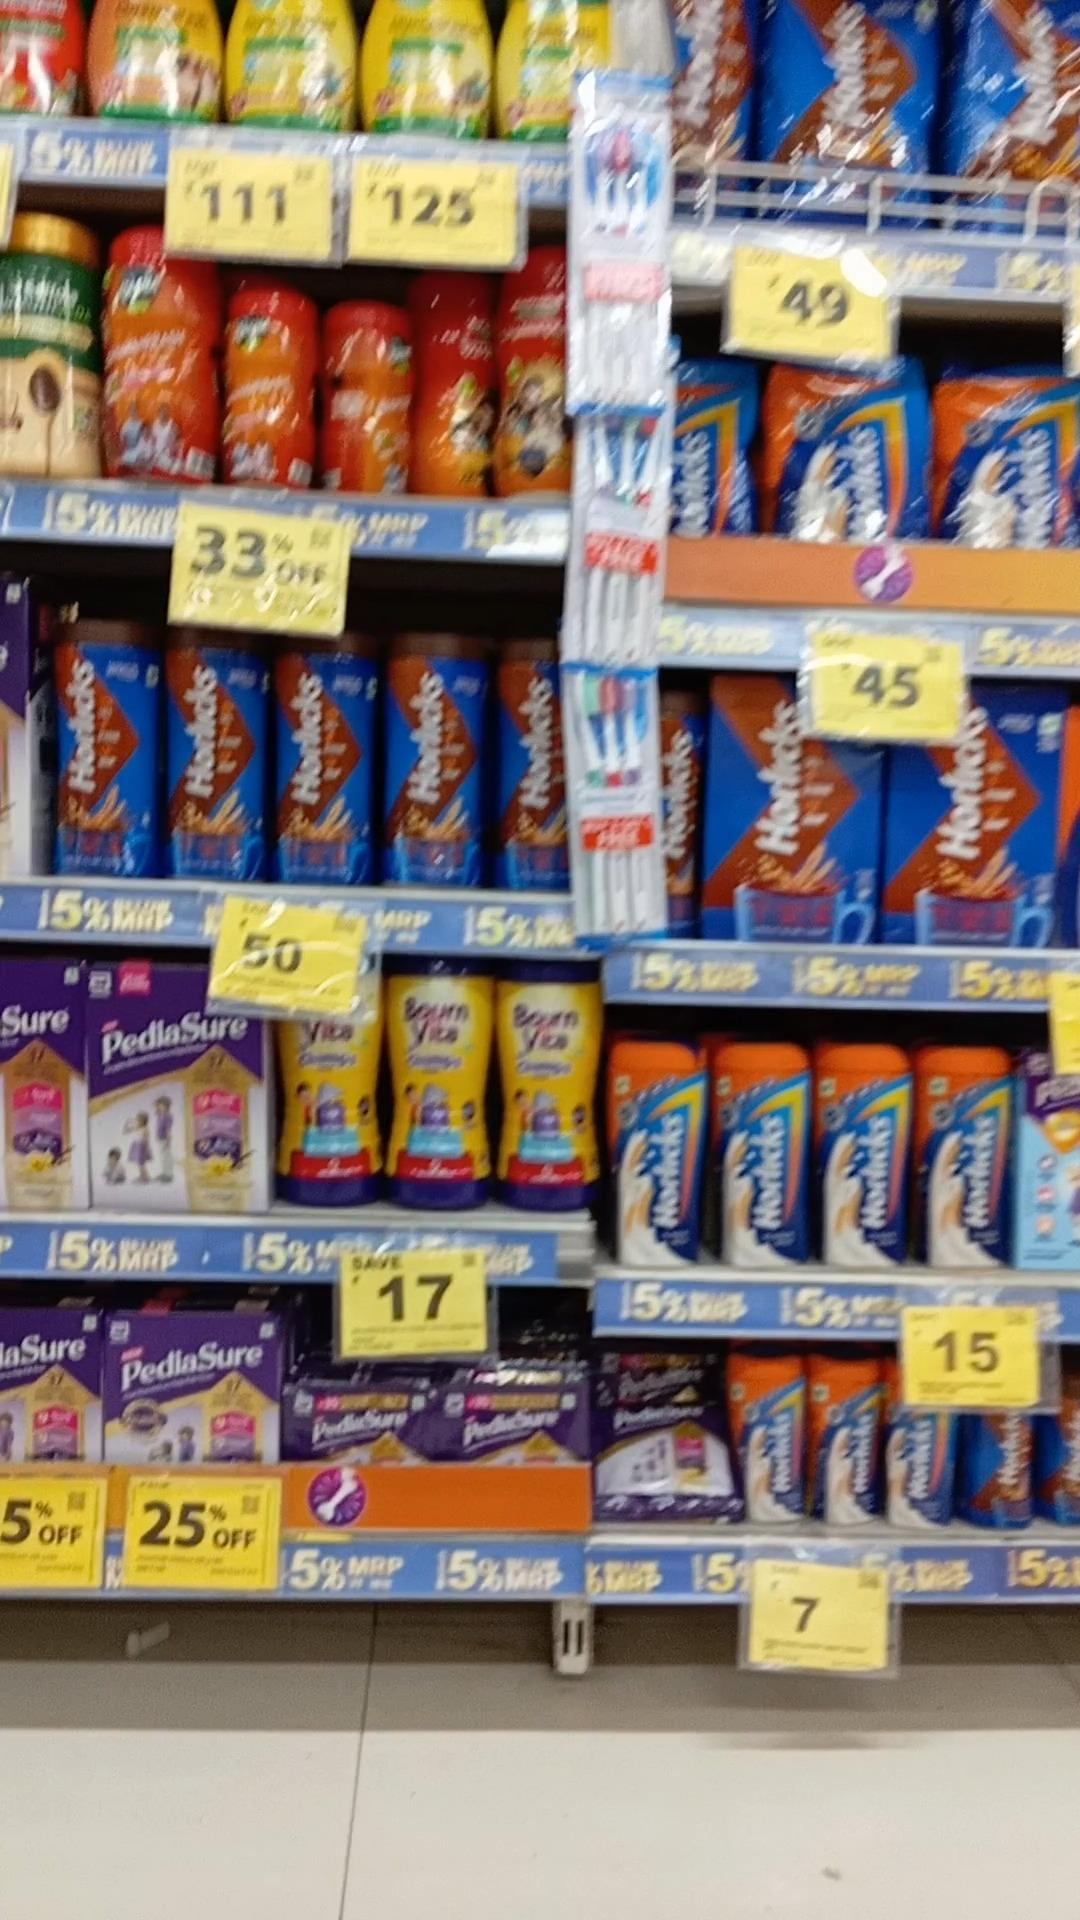BOURN_VITA_CHAMPS_500_G_JAR: (386, 948, 489, 1215), (506, 953, 603, 1213), (280, 1013, 381, 1208)
HORLICK_CHOCOLATE_1_KG_PACK: (773, 0, 931, 229), (953, 0, 1073, 244)
HORLICK_CHOCOLATE_500_G_JAR: (51, 608, 153, 877), (166, 626, 266, 885), (385, 632, 481, 893), (276, 636, 371, 887), (495, 644, 570, 894)
HORLICK_CHOCOLATE_500_G_PACK: (898, 712, 1080, 953), (715, 692, 884, 942)
HORLICK_CHOCOLATE_750_G_POUCH: (767, 359, 927, 542), (935, 357, 1080, 547)
HORLICK_CLASSIC_MALT_200_G_JAR: (808, 1345, 874, 1528), (733, 1353, 803, 1524), (889, 1399, 947, 1536)
HORLICK_CLASSIC_MALT_500_G_JAR: (812, 1036, 913, 1275), (709, 1044, 806, 1271), (609, 1038, 702, 1273), (919, 1039, 1011, 1270)
PEDIASURE_VANILLA_500_G_PACK: (87, 959, 256, 1213), (107, 1313, 280, 1470)
